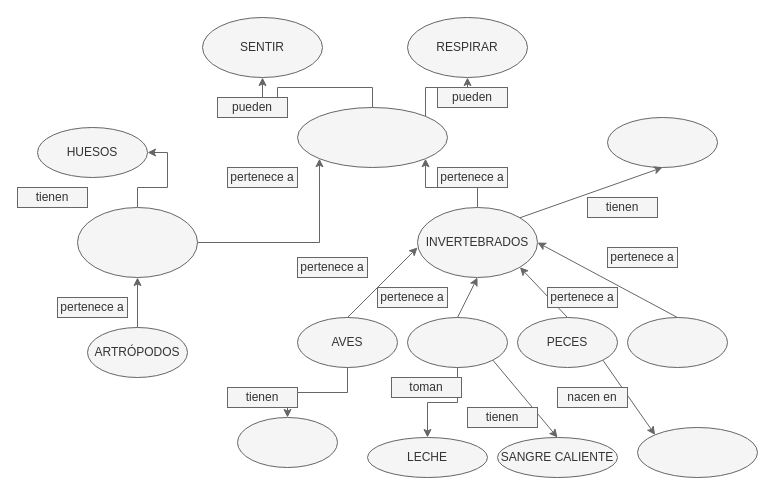
Some shapes in this 775 by 495 pixel diagram are drawn without their labels. The centre of each missing label's shape, as x and y in pixels:
AGUA: (697,452)
ALAS: (287,442)
ANFIBIOS: (677,342)
EXOESQUELETO: (662,142)
MAMÍFEROS: (457,342)
SERES VIVOS: (372,137)
VERTEBRADOS: (137,242)
